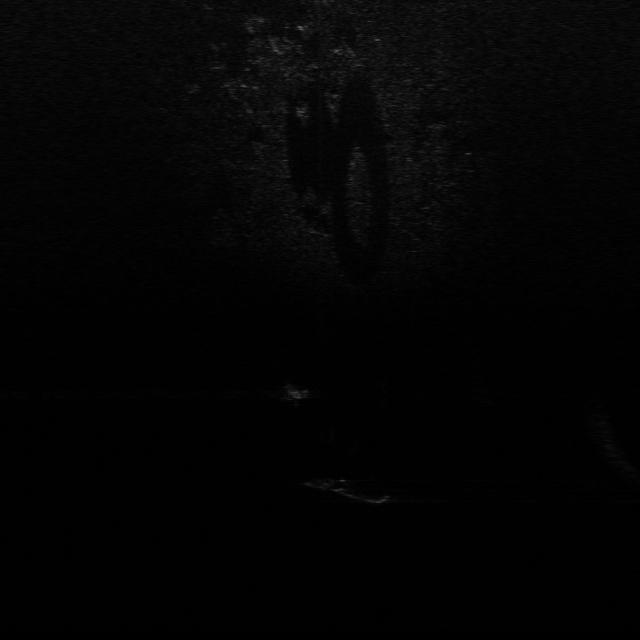cube: (300, 473, 338, 492)
square cage: (276, 376, 316, 403)
tyre: (327, 476, 392, 507)
